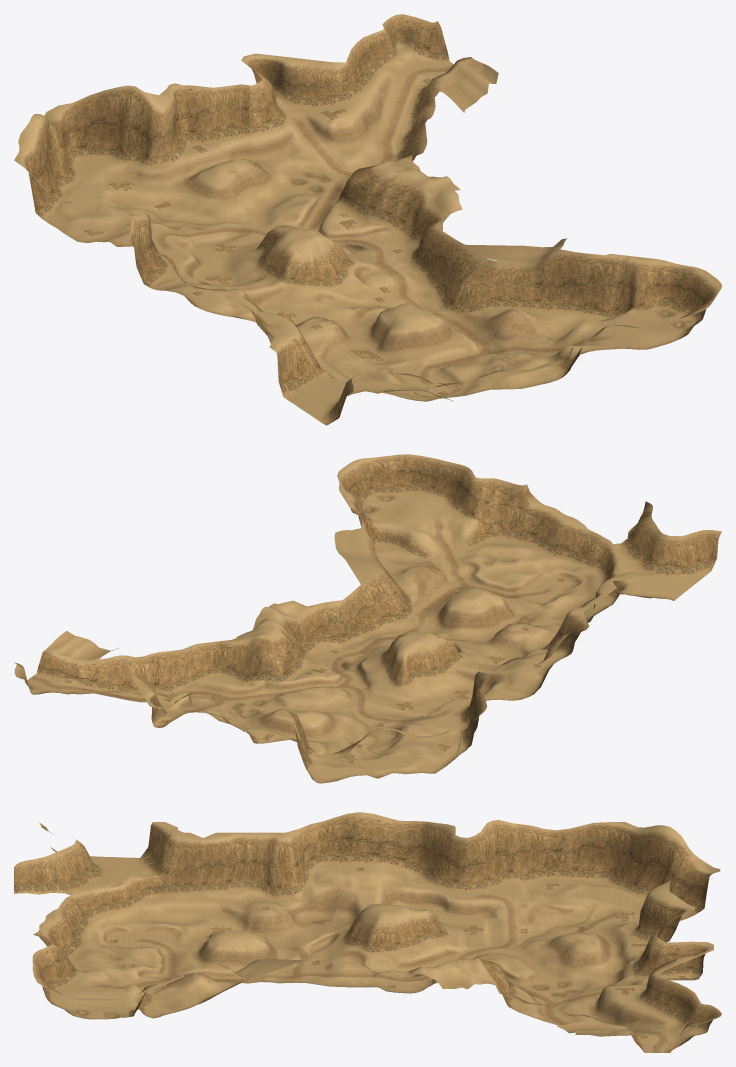
The model's file is Mission5_Zone03.glb.
3 renders of one model, top to bottom at view 1: azimuth 30°, elevation 25°; view 2: azimuth 150°, elevation 25°; view 3: azimuth 270°, elevation 25°, orthographic. The views are drawn at different scales.
Parts seen in each view (by area): view 1: MISSION5_ZONE03387, MISSION5_ZONE031436, MISSION5_ZONE031520, MISSION5_ZONE03358, MISSION5_ZONE031521; view 2: no part large enough to name; view 3: MISSION5_ZONE031238, MISSION5_ZONE031393, MISSION5_ZONE031201, MISSION5_ZONE03805, MISSION5_ZONE031315, MISSION5_ZONE03703, MISSION5_ZONE03986, MISSION5_ZONE031164, MISSION5_ZONE03727, MISSION5_ZONE03961, MISSION5_ZONE03392, MISSION5_ZONE031013 (+23 smaller).
Boxes of the visible parts, x1,y1,x2,y2 form: MISSION5_ZONE03387: (580, 253, 604, 314); MISSION5_ZONE031436: (120, 98, 143, 162); MISSION5_ZONE031520: (75, 95, 92, 156); MISSION5_ZONE03358: (596, 262, 617, 312); MISSION5_ZONE031521: (89, 90, 104, 148); MISSION5_ZONE031238: (592, 822, 609, 872); MISSION5_ZONE031393: (639, 836, 666, 896); MISSION5_ZONE031201: (581, 823, 595, 871); MISSION5_ZONE03805: (399, 820, 417, 863); MISSION5_ZONE031315: (615, 827, 631, 877); MISSION5_ZONE03703: (347, 821, 372, 863); MISSION5_ZONE03986: (492, 827, 508, 875); MISSION5_ZONE031164: (569, 826, 581, 871); MISSION5_ZONE03727: (360, 823, 385, 863); MISSION5_ZONE03961: (477, 827, 494, 881); MISSION5_ZONE03392: (184, 846, 209, 893); MISSION5_ZONE031013: (503, 828, 518, 880).
Size of the model in its own units: 305 by 51.96 by 449.
30 materials, 30 textured.
